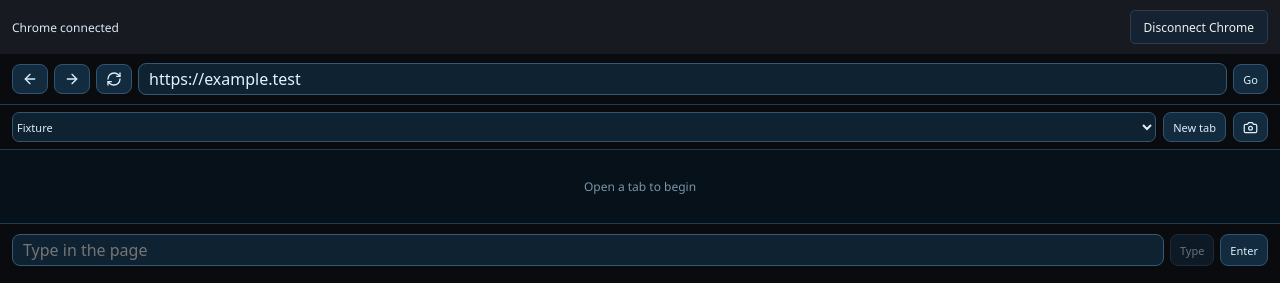
Scenario: disconnect clears the capture and late screenshot responses cannot restore it
The image size is (1280, 283).
Click the button "Disconnect Chrome": (1199, 27) [1130,10,1268,44]
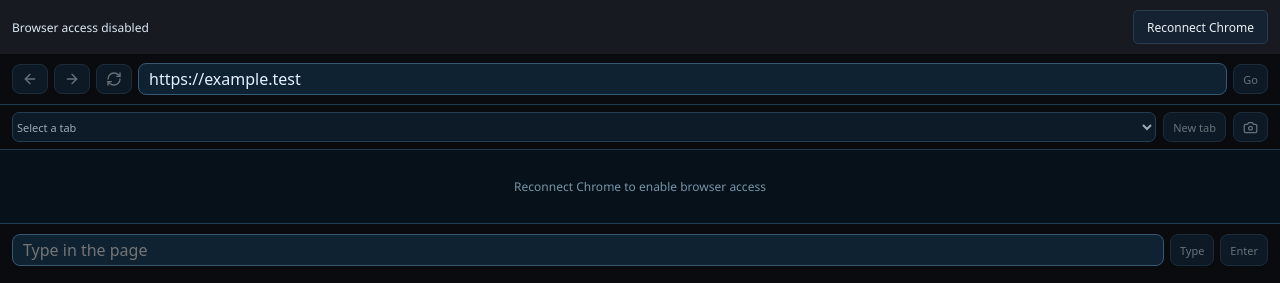
Check: the text "Browser access disabled" is shown, box [12,18,149,36]
